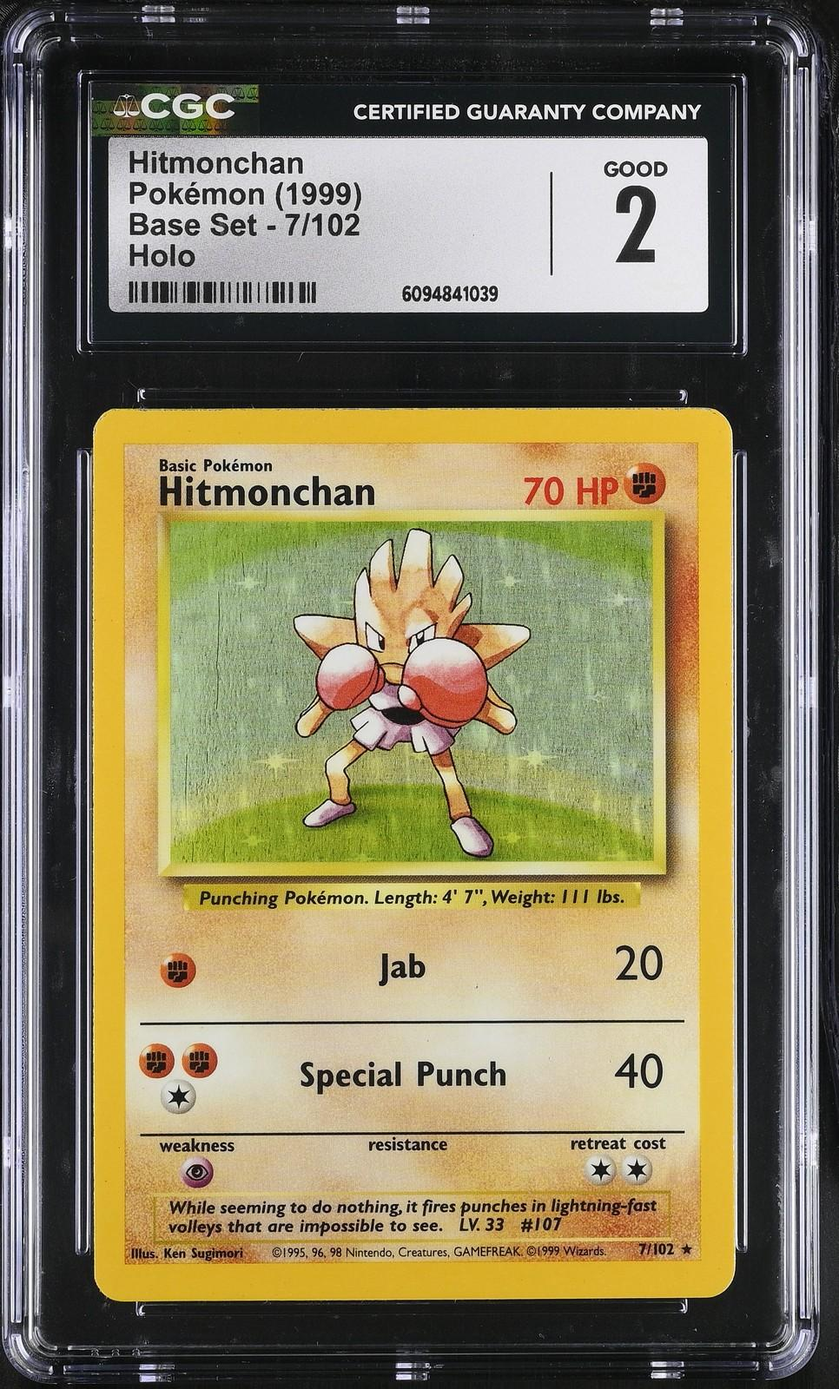card-2UtV: (93, 407, 736, 1302)
